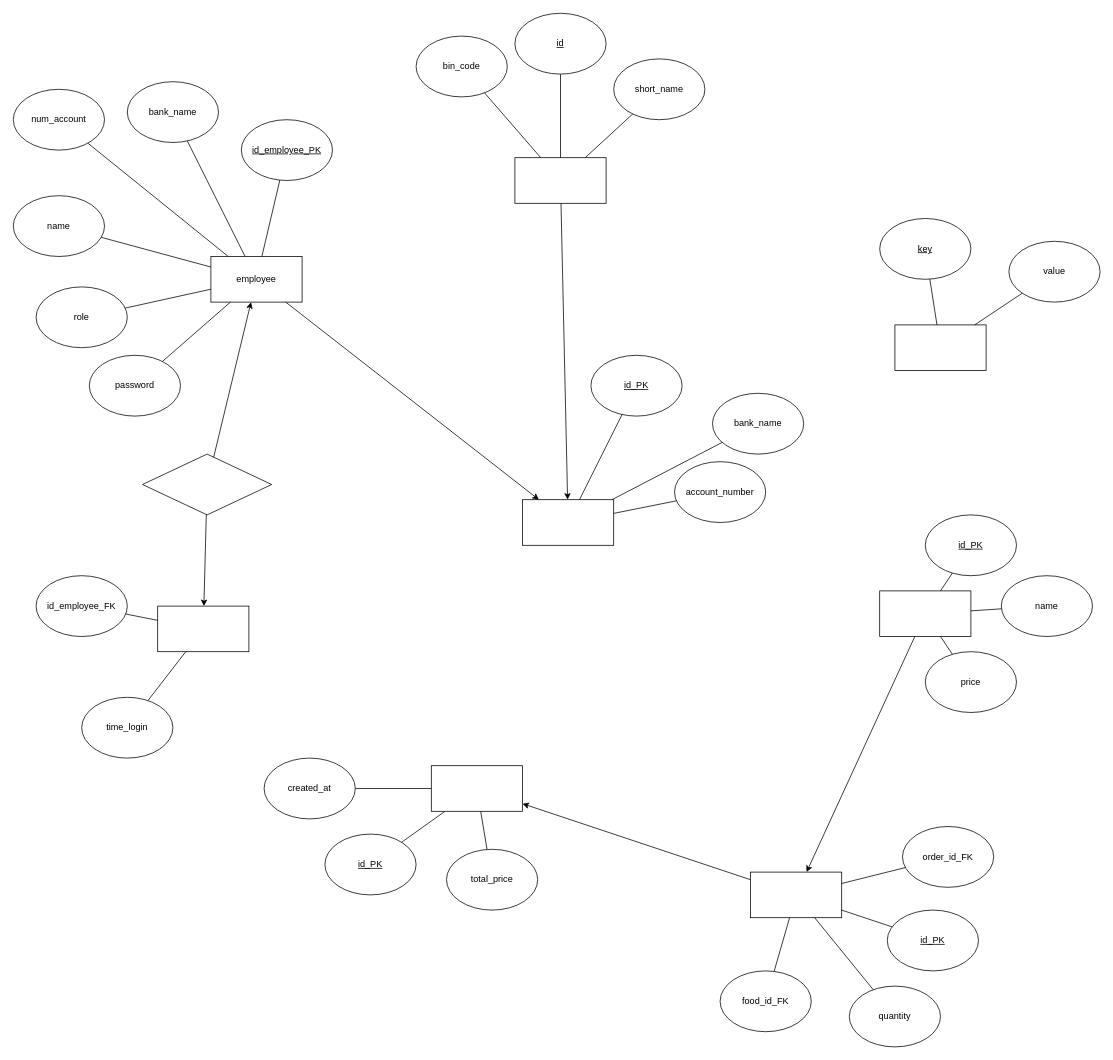
The diagram is 1113 pixels wide and 1060 high, and some of its shapes have lost their labels. The shapes that lost their labels are listed below. From the top down, each one's box as (x1, y1, x2, y2) in pixels, then its label:
(514, 157, 606, 203): bank_info
(894, 324, 986, 370): app_settings
(142, 453, 272, 515): Đăng nhập
(522, 499, 614, 545): payment_info
(157, 605, 249, 652): time_sheet
(879, 590, 971, 636): food
(431, 765, 522, 811): orders
(750, 871, 842, 918): order_items
